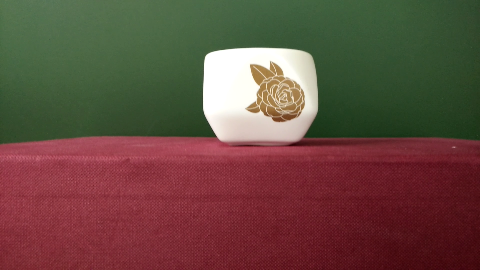flower: (241, 56, 308, 124)
